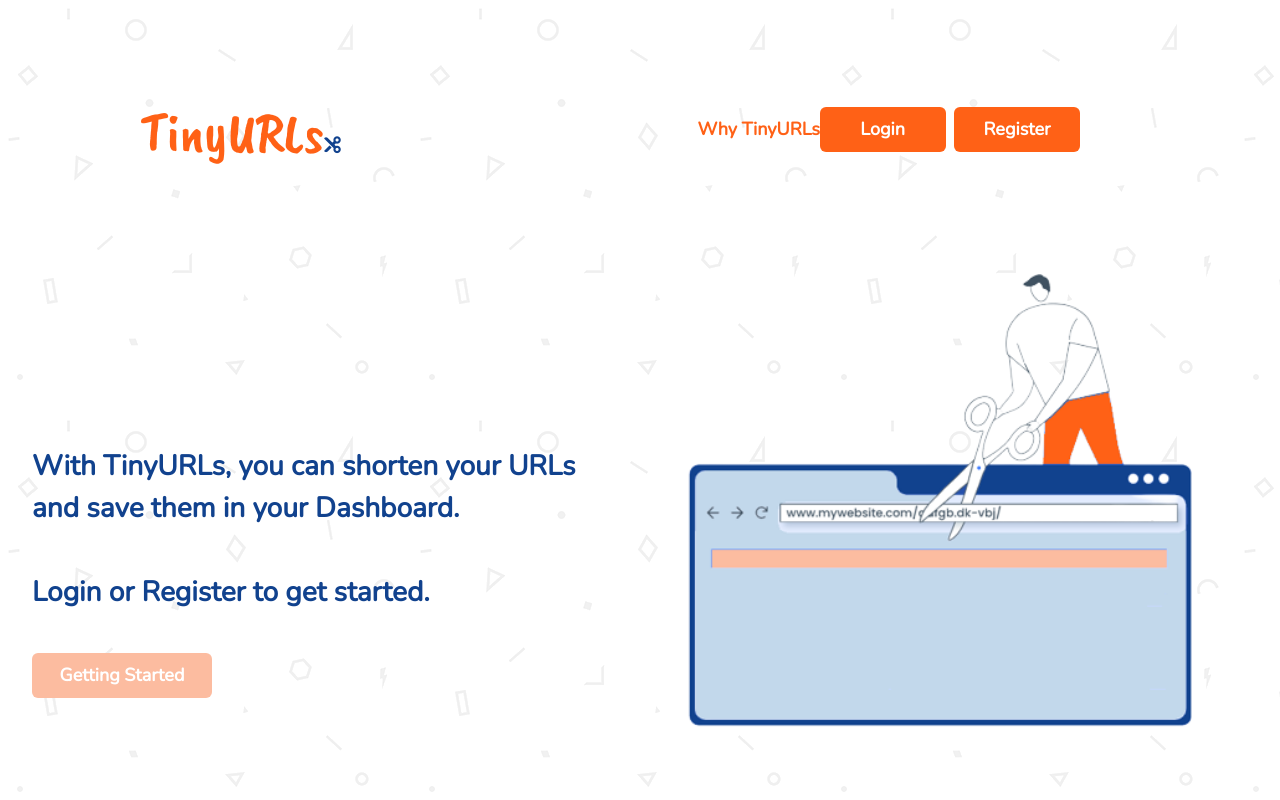
Scenario: LandingPage › it should close the popup Login form when you click on close button
Click the button with test id "login" at (883, 130), box [820,107,946,152]
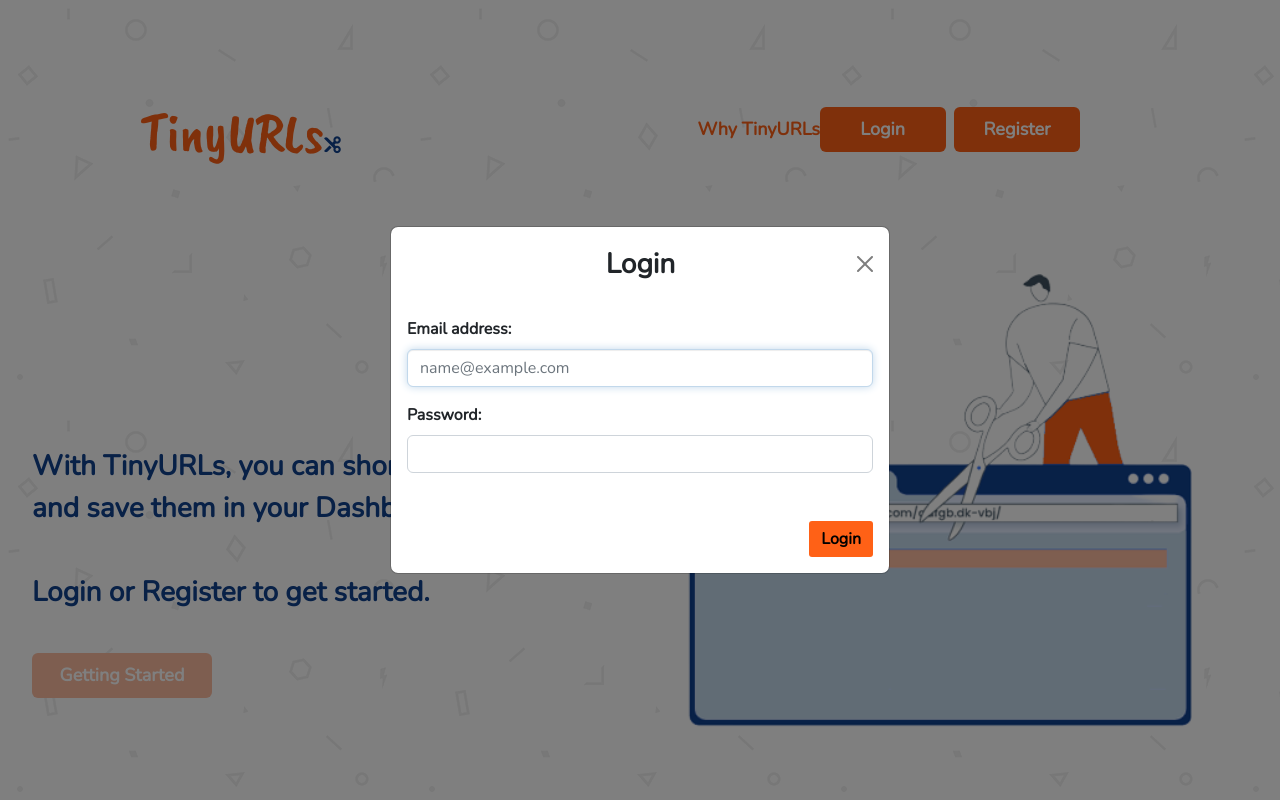
Check: the field labelled "Email address:" is shown, box [407,349,873,387]
Check: the password field labelled "Password:" is shown, box [407,435,873,473]
Click the button named "Close" at (865, 264), box [849,248,881,280]
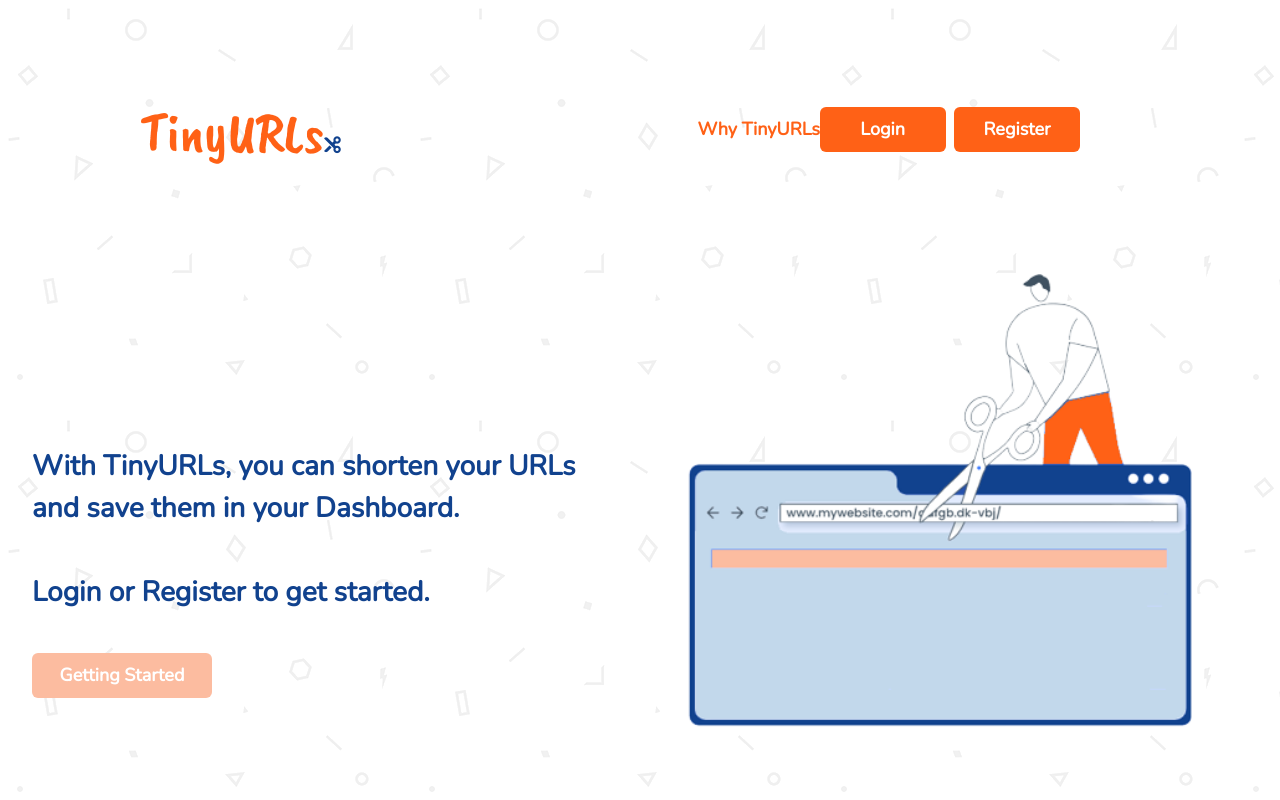
Check: the label labelled "Email address" is gone
Check: the label labelled "Password" is gone
